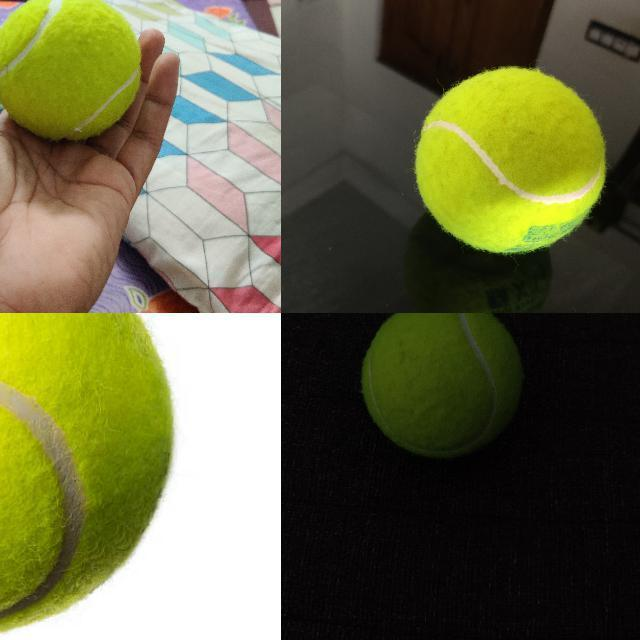tennis-ball: (0, 313, 174, 634), (413, 66, 608, 254), (359, 313, 524, 456), (0, 0, 141, 141)
